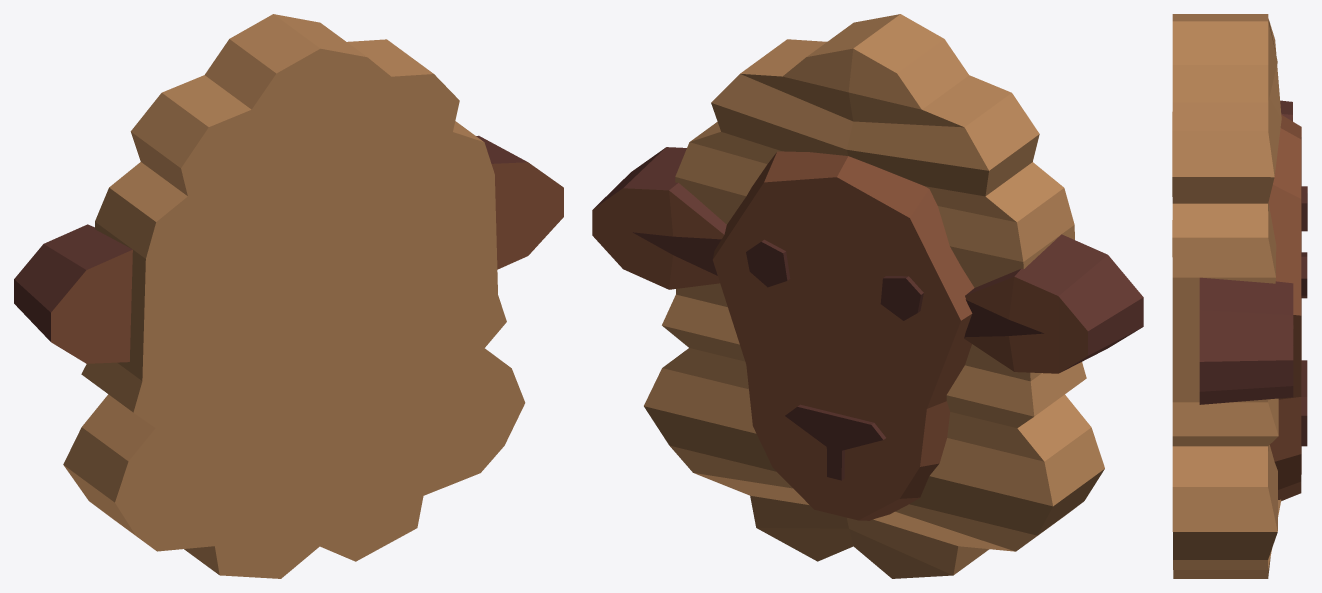
The model's file is icon_sheep.fbx.
The picture shows the model from 3 angles, left to right: view 1: azimuth 30°, elevation 25°; view 2: azimuth 150°, elevation 25°; view 3: azimuth 270°, elevation 25°; orthographic projection.
Parts seen in each view (by area): view 1: icon_sheep; view 2: icon_sheep; view 3: icon_sheep.
Boxes of the visible parts, x1,y1,x2,y2 form: icon_sheep: (14,14,563,578); icon_sheep: (592,14,1143,578); icon_sheep: (1172,14,1307,578).
Bounding box in the file's own units: 41.43 × 40.3 × 9.34.
